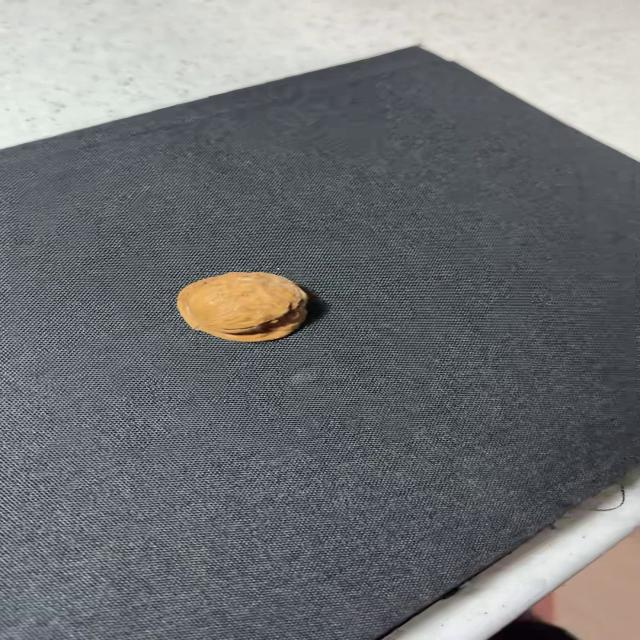nuts-bad0.5: (177, 272, 308, 342)
